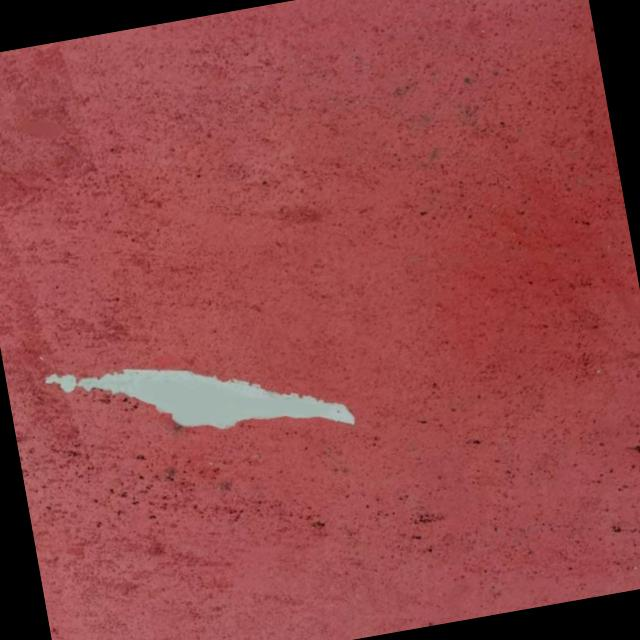surface_peeling: (37, 314, 364, 481)
